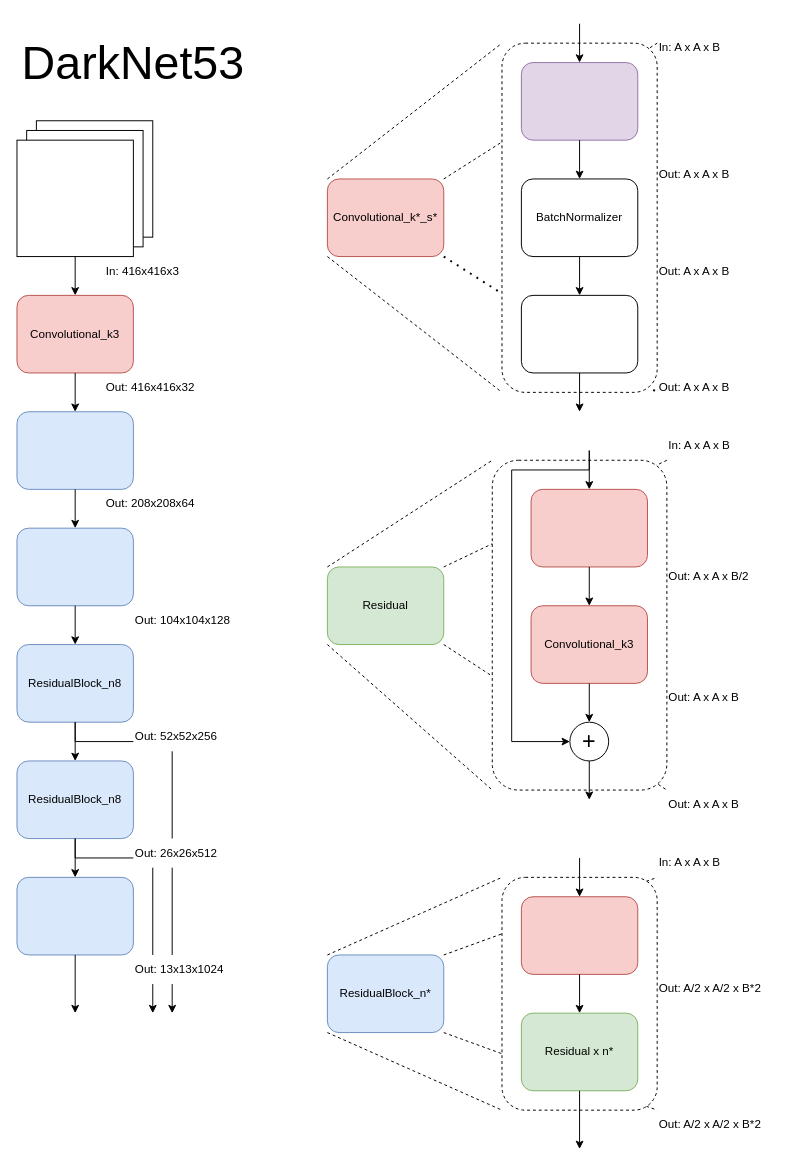
Some shapes in this 791 by 1174 pixel diagram are drawn without their labels. The shapes that lost their labels are listed below. From the top down, each one's centre as x and y in pixels, then its label:
At point 579,101: "Conv2D_k*_s*".
At point 579,333: "Leaky ReLU".
At point 74,450: "ResidualBlock_n1".
At point 588,527: "Convolutional_k1".
At point 74,566: "ResidualBlock_n2".
At point 74,915: "ResidualBlock_n4".
At point 579,935: "Convolutional_k3_s2 / Downsample".
